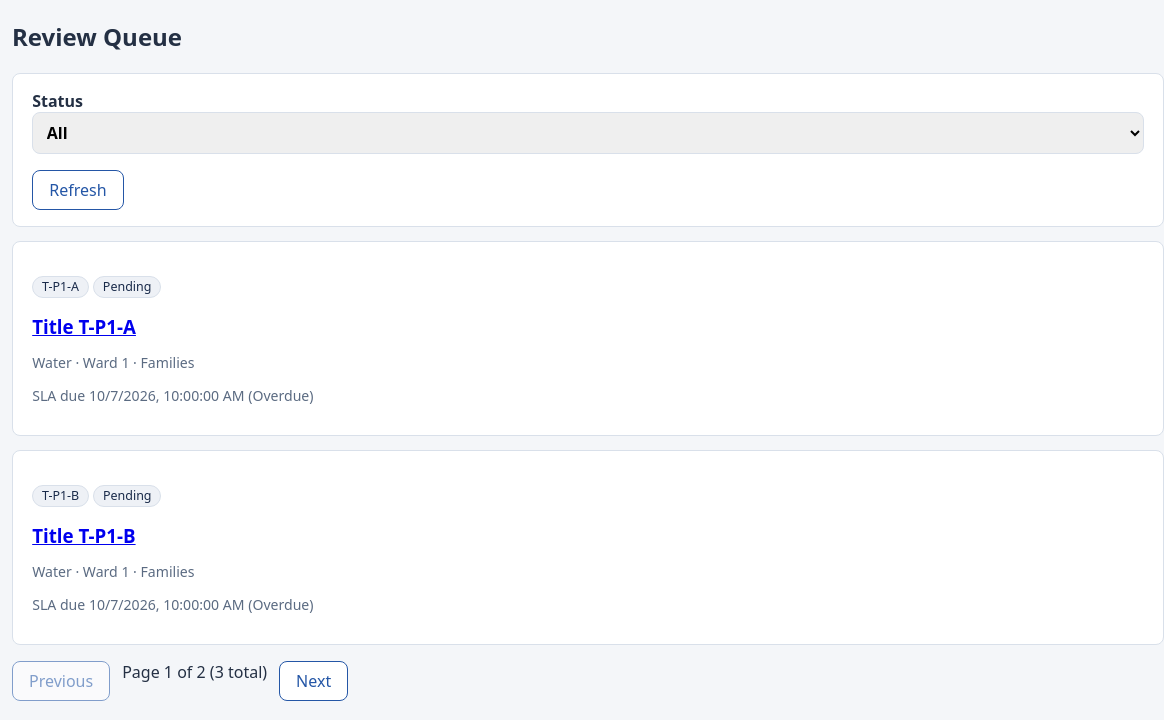
Scenario: review queue › paginates through the API
The image size is (1164, 720).
Expected: the text "T-P1-A" is shown, [32, 276, 89, 298]
Click the button "Next" at (314, 681), box [279, 661, 348, 701]
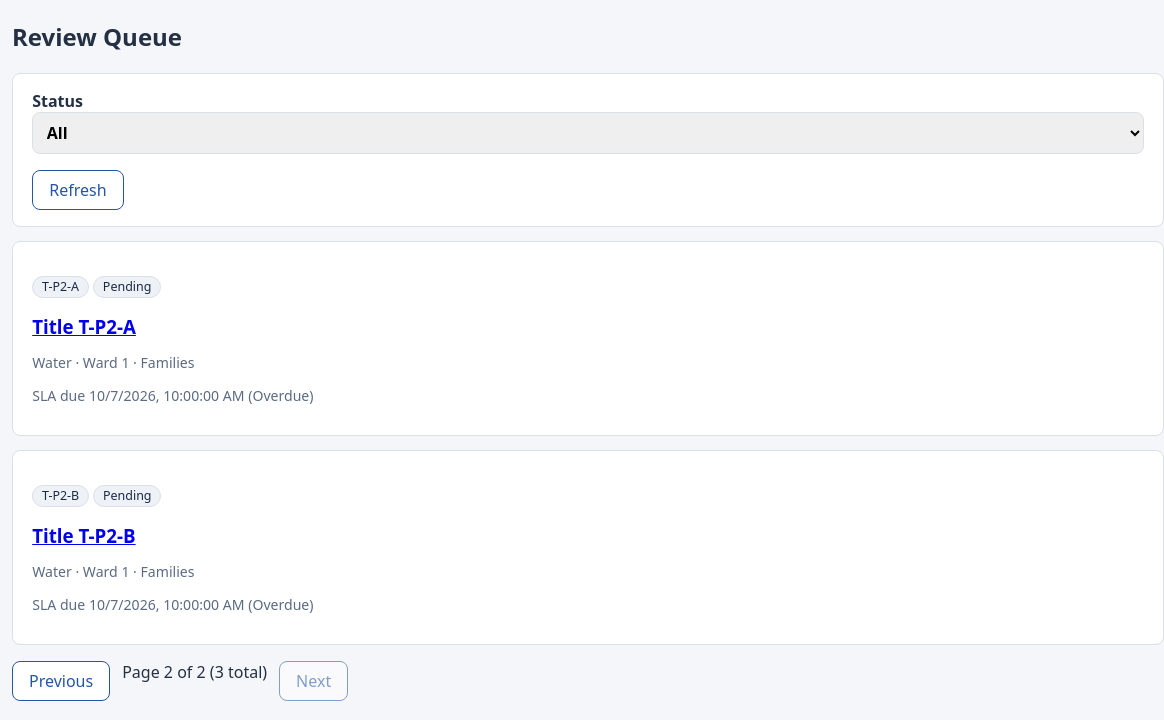
Expected: the text "T-P2-A" is shown, [32, 276, 89, 298]
